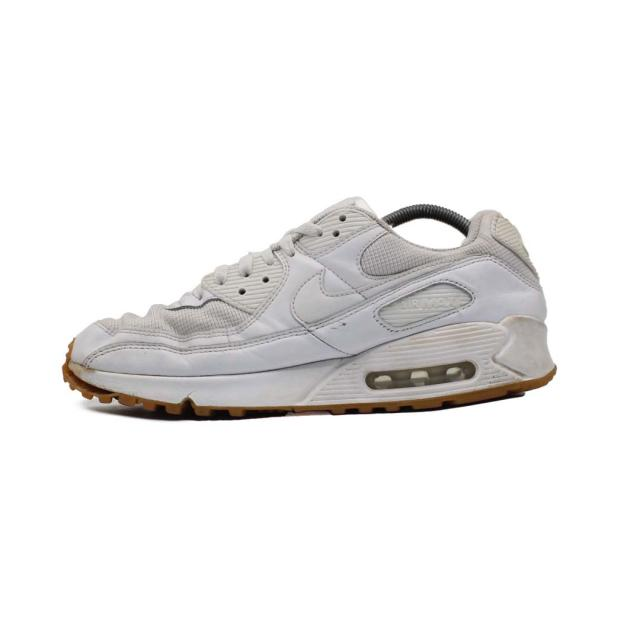heel: (462, 208, 553, 322)
midsole: (62, 319, 556, 411)
uppersole: (75, 204, 524, 376)
